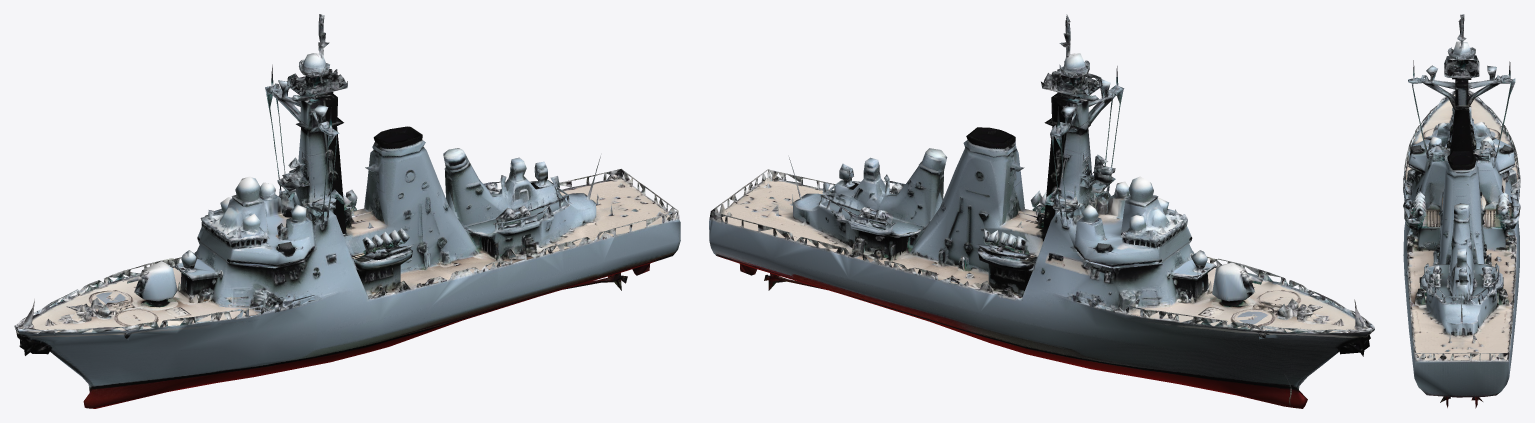
The model's file is kw_ship.glb.
3 views of the same model, side by side, from view 1: azimuth 30°, elevation 25°; view 2: azimuth 150°, elevation 25°; view 3: azimuth 270°, elevation 25° (orthographic). The views are drawn at different scales.
Visible parts, largest first — view 1: frame; view 2: frame; view 3: frame.
Boxes of the visible parts, box(x1,y1,x2,y2) form: frame: box(14, 14, 680, 408); frame: box(709, 14, 1374, 408); frame: box(1403, 14, 1520, 408).
Size of the model in its own units: 69.94 by 35.6 by 13.77.
1 material, 1 textured.
